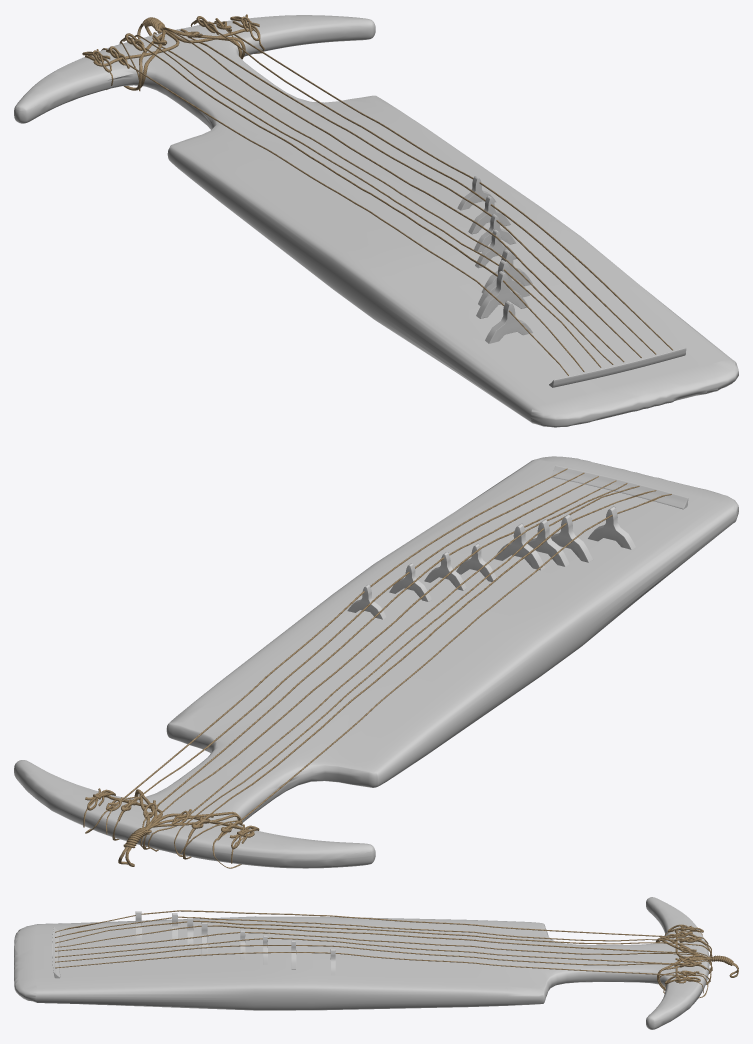
File: SM_Chord.FBX
3 views of the same model, one above another, from view 1: azimuth 30°, elevation 25°; view 2: azimuth 150°, elevation 25°; view 3: azimuth 270°, elevation 25° (orthographic). The views are drawn at different scales.
Parts seen in each view (by area): view 1: SM_Chord; view 2: SM_Chord; view 3: SM_Chord.
Part boxes in pixels (x1,y1,x2,y2): SM_Chord: [14, 14, 738, 427]; SM_Chord: [14, 456, 738, 868]; SM_Chord: [14, 897, 738, 1029].
Bounding box in the file's own units: 59.04 × 11.79 × 147.
